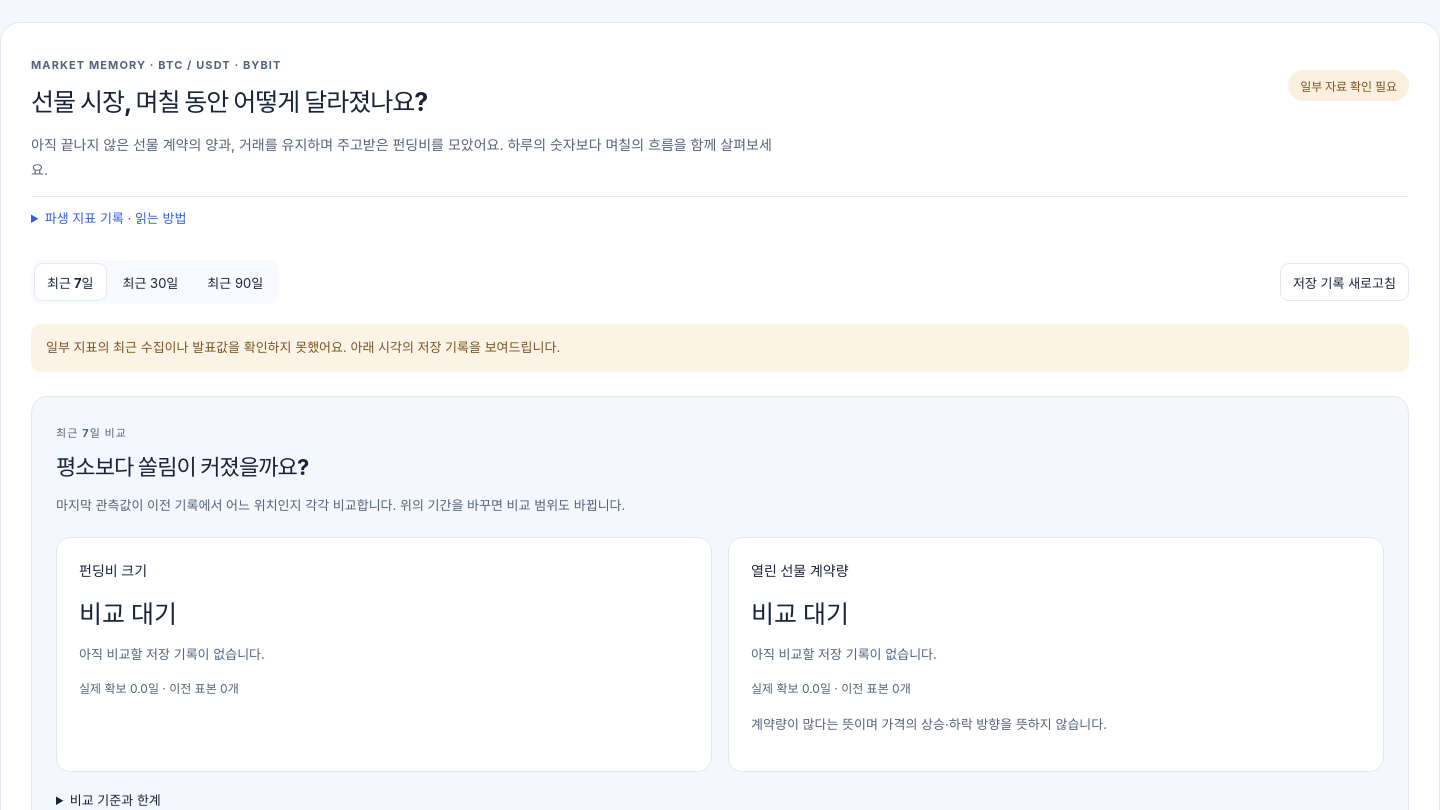
Test: empty collections never appear as zero and errors keep old data clearly labeled
Click the button "저장 기록 새로고침" at (1344, 282), box left=1280, top=263, right=1409, bottom=301
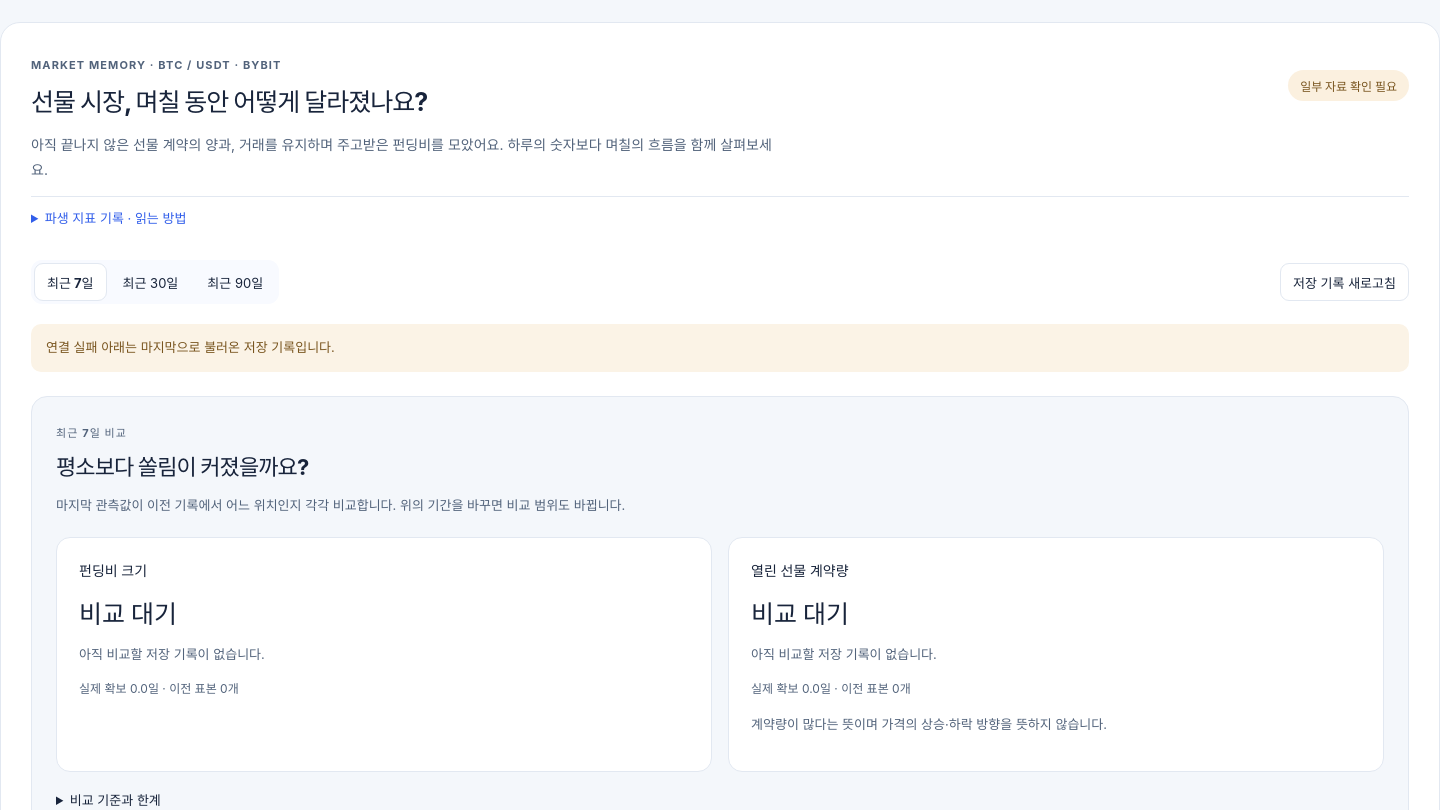
Result: the text "연결 실패 아래는 마지막으로 불러온 저장 기록입니다." is shown at left=31, top=324, right=1409, bottom=372
